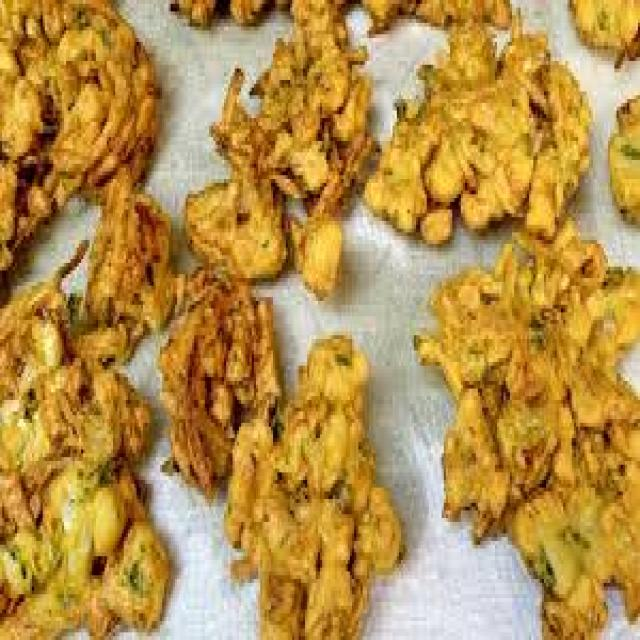BAJI: (418, 231, 638, 634), (2, 196, 174, 636), (224, 316, 406, 636), (178, 6, 378, 293), (370, 21, 599, 241), (3, 3, 163, 272), (570, 0, 638, 67)
